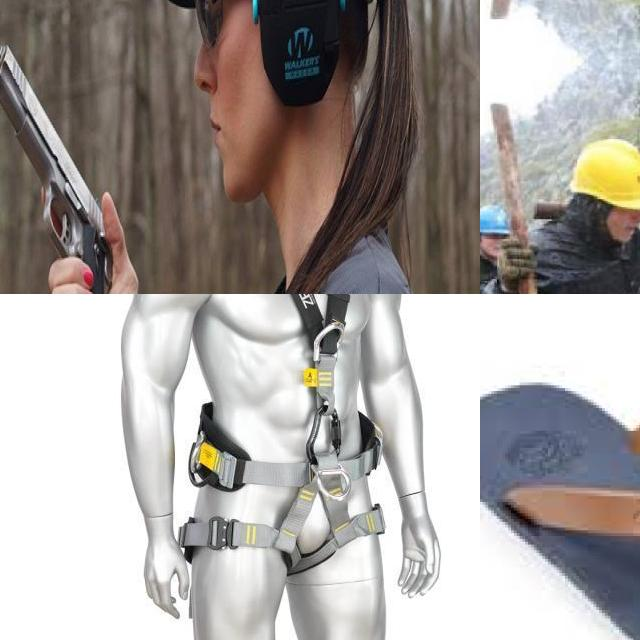Ear-protection: (249, 0, 344, 109)
Harness: (180, 294, 385, 576)
Sandals: (480, 366, 640, 640)
hand_glove: (495, 238, 535, 292)
head_helmet: (568, 138, 640, 213), (480, 205, 514, 239)
person: (508, 131, 638, 294)
